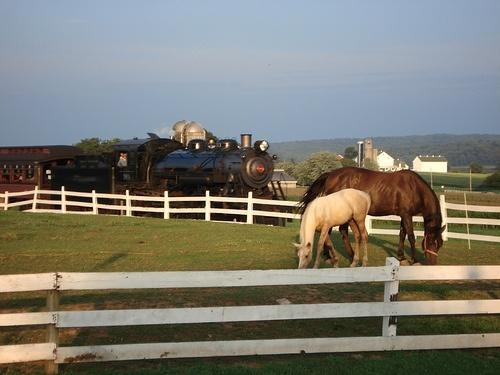horse: (298, 167, 448, 268), (293, 188, 370, 270)
train: (1, 135, 281, 226)
